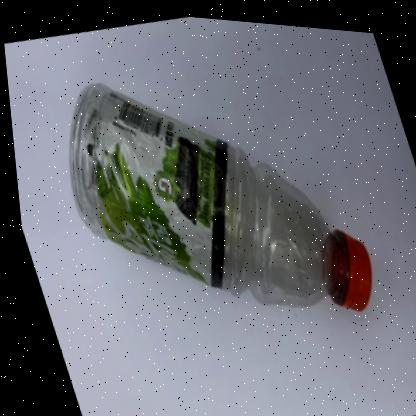Plastic: (65, 81, 366, 302)
